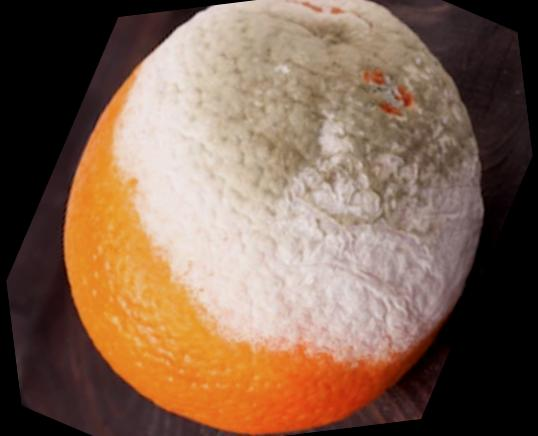Orange Rotten: (31, 0, 512, 436)
